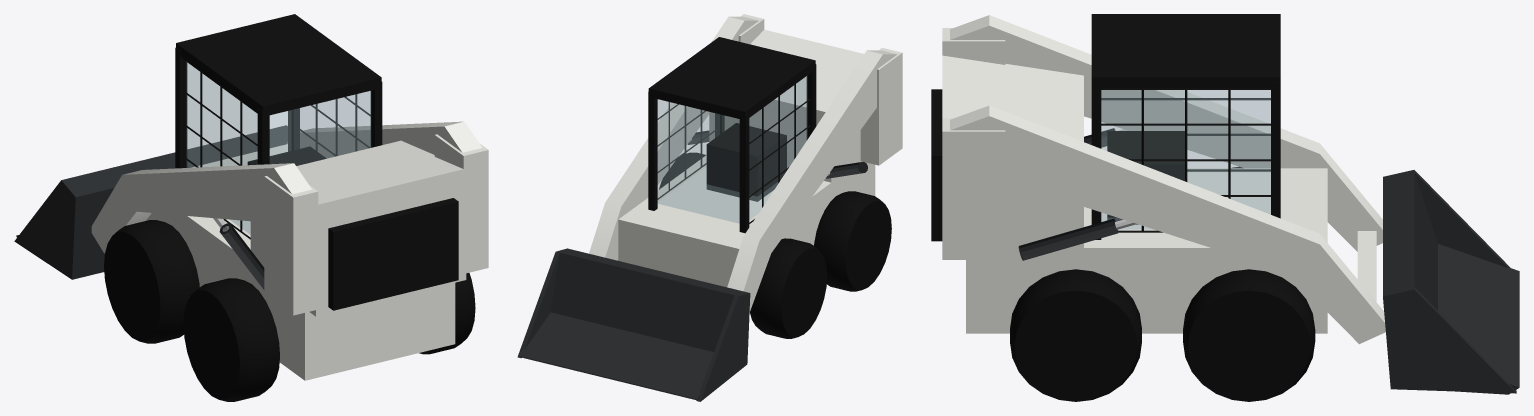
Rendered from plant.earthmoving.skid_steer.glb.
3 renders of one model, left to right at view 1: azimuth 30°, elevation 25°; view 2: azimuth 150°, elevation 25°; view 3: azimuth 270°, elevation 25°, orthographic. The views are drawn at different scales.
Visible parts, largest first — view 1: body__plastic_black, body__paint_white, arms__paint_white, wheels__rubber, body__glass, bucket__steel_dark, arms__steel_dark; view 2: bucket__steel_dark, body__paint_white, arms__paint_white, body__plastic_black, body__glass, wheels__rubber, arms__steel_dark; view 3: arms__paint_white, body__paint_white, wheels__rubber, bucket__steel_dark, body__plastic_black, body__glass, arms__steel_dark.
Part boxes in pixels (bbox=[...]): body__plastic_black: bbox=[175, 14, 458, 310]; body__paint_white: bbox=[146, 140, 466, 380]; arms__paint_white: bbox=[91, 121, 488, 315]; wheels__rubber: bbox=[104, 220, 475, 401]; body__glass: bbox=[186, 62, 370, 234]; bucket__steel_dark: bbox=[14, 125, 287, 279]; arms__steel_dark: bbox=[219, 223, 264, 289]; bucket__steel_dark: bbox=[517, 248, 750, 401]; body__paint_white: bbox=[618, 29, 875, 287]; arms__paint_white: bbox=[589, 14, 902, 311]; body__plastic_black: bbox=[648, 37, 816, 233]; body__glass: bbox=[657, 76, 807, 223]; wheels__rubber: bbox=[618, 152, 891, 338]; arms__steel_dark: bbox=[688, 130, 867, 178]; arms__paint_white: bbox=[942, 15, 1385, 344]; body__paint_white: bbox=[942, 55, 1327, 333]; wheels__rubber: bbox=[1010, 166, 1315, 401]; bucket__steel_dark: bbox=[1383, 170, 1519, 394]; body__plastic_black: bbox=[931, 14, 1280, 241]; body__glass: bbox=[1101, 90, 1270, 229]; arms__steel_dark: bbox=[1018, 128, 1118, 260].
Bounding box in the file's own units: 1.88 × 2.09 × 3.74.
